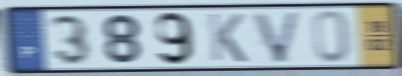0: (310, 8, 354, 65)
3: (48, 13, 94, 66)
8: (101, 13, 144, 66)
9: (154, 10, 197, 67)
K: (206, 11, 249, 64)
V: (251, 9, 305, 65)
